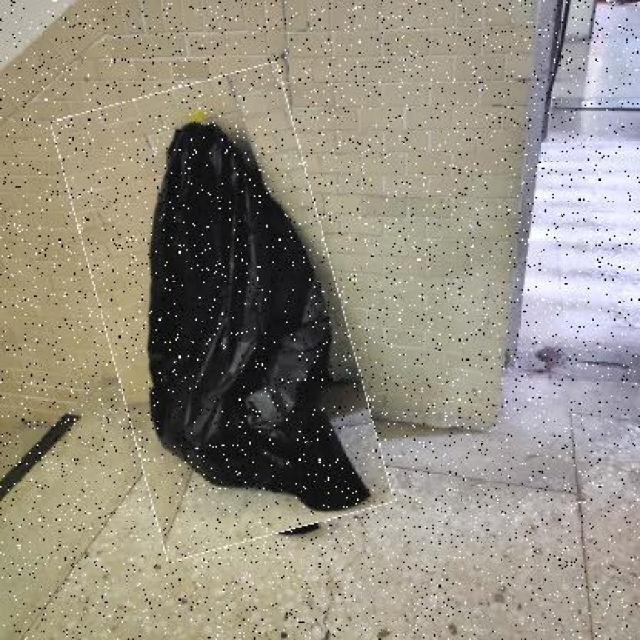waste: (79, 73, 367, 552)
